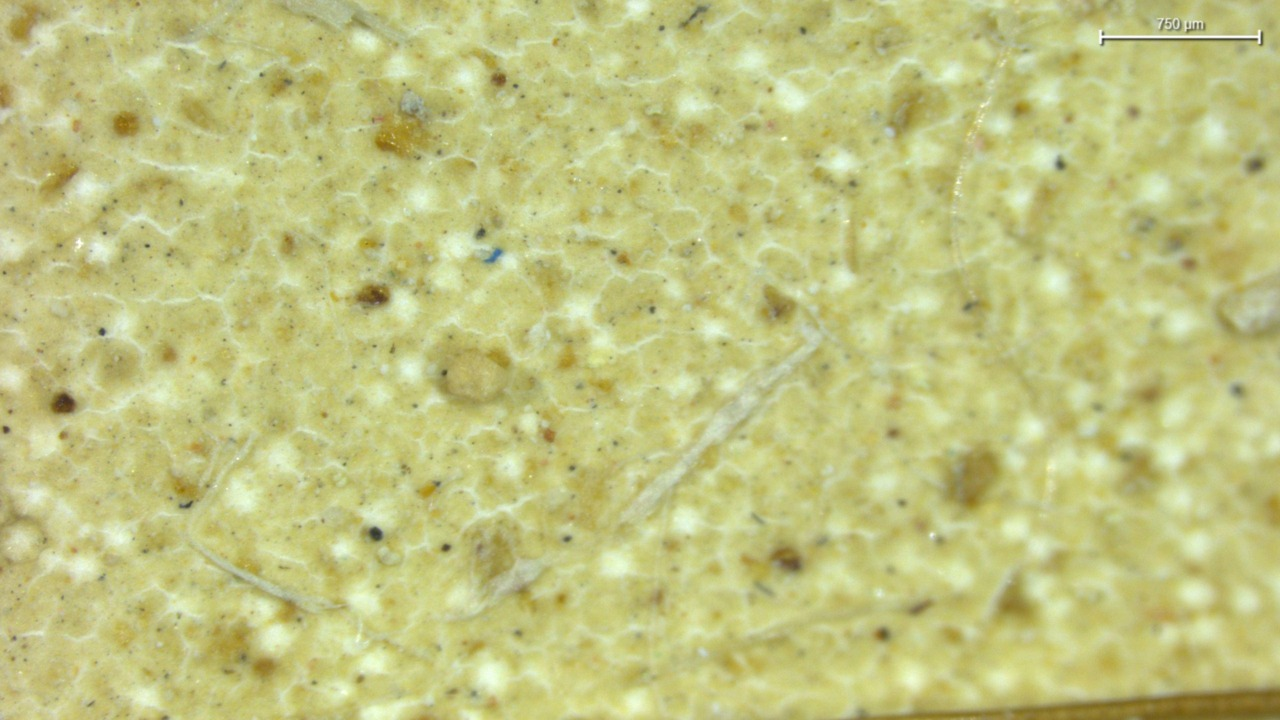microplastic_fragment: (444, 352, 508, 404), (402, 91, 425, 114)
